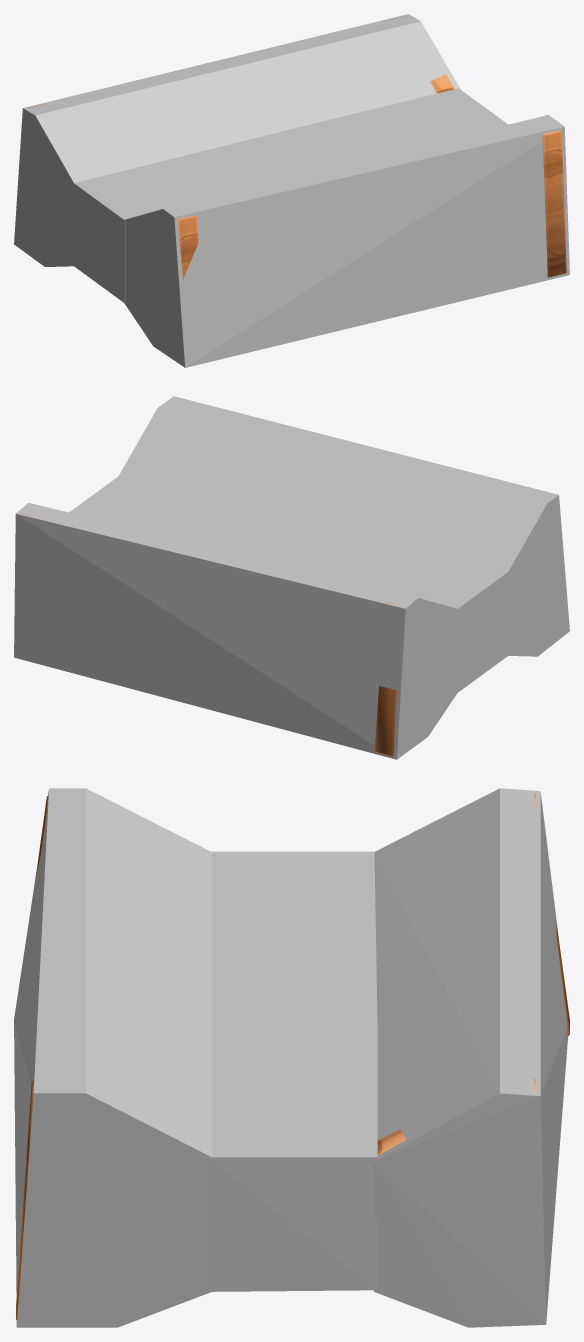
The model's file is SM_BarrelStands01_1.fbx.
The picture shows the model from 3 angles, top to bottom: view 1: azimuth 30°, elevation 25°; view 2: azimuth 150°, elevation 25°; view 3: azimuth 270°, elevation 25°; orthographic projection. The views are drawn at different scales.
Parts seen in each view (by area): view 1: SM_BarrelStands01_1_ConvexHulls, SM_BarrelStands01_1; view 2: SM_BarrelStands01_1_ConvexHulls, SM_BarrelStands01_1; view 3: SM_BarrelStands01_1_ConvexHulls, SM_BarrelStands01_1.
Boxes of the visible parts, x1,y1,x2,y2 form: SM_BarrelStands01_1_ConvexHulls: [14, 14, 569, 367]; SM_BarrelStands01_1: [28, 16, 566, 279]; SM_BarrelStands01_1_ConvexHulls: [14, 396, 569, 759]; SM_BarrelStands01_1: [21, 513, 403, 756]; SM_BarrelStands01_1_ConvexHulls: [14, 788, 567, 1327]; SM_BarrelStands01_1: [16, 793, 569, 1319].
Bounding box in the file's own units: 91.9 × 70.4 × 32.75.
2 materials, 1 textured.
